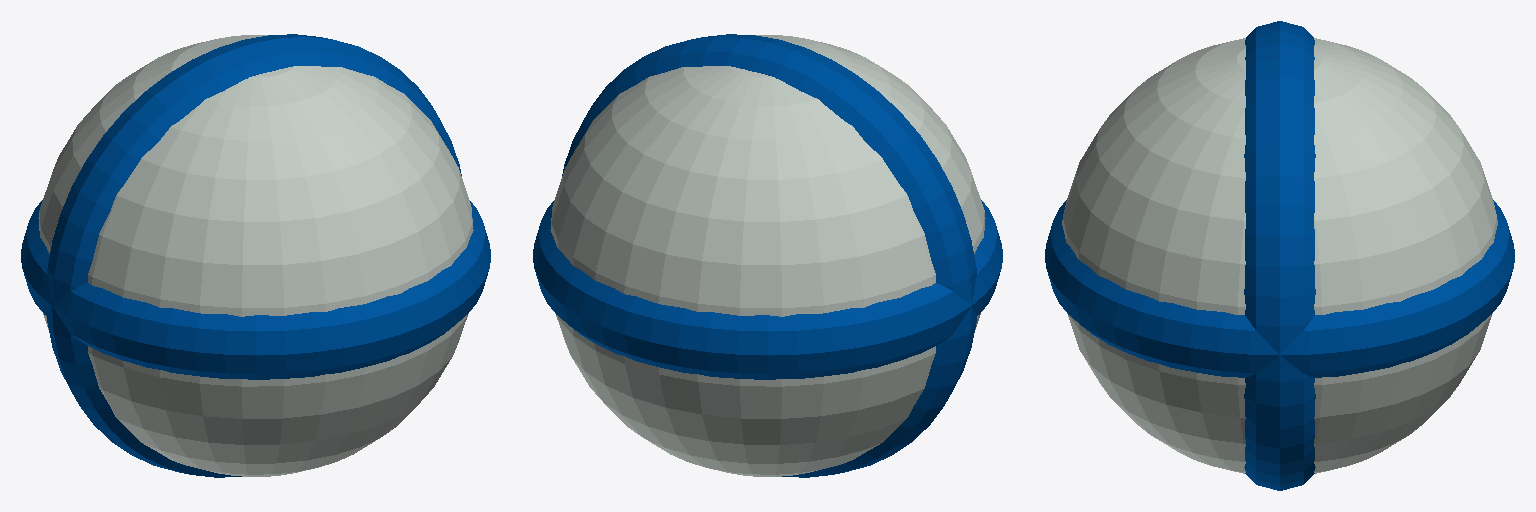
File: Grenade.obj
3 views of the same model, side by side, from view 1: azimuth 30°, elevation 25°; view 2: azimuth 150°, elevation 25°; view 3: azimuth 270°, elevation 25° (orthographic).
Visible parts, largest first — view 1: Sphere, Torus, Torus.001; view 2: Sphere, Torus, Torus.001; view 3: Sphere, Torus.001, Torus.
Part boxes in pixels (bbox=[...]): Sphere: bbox=[38, 35, 473, 476]; Torus: bbox=[21, 200, 490, 379]; Torus.001: bbox=[47, 34, 461, 477]; Sphere: bbox=[550, 35, 985, 476]; Torus: bbox=[533, 200, 1002, 379]; Torus.001: bbox=[562, 34, 976, 477]; Sphere: bbox=[1062, 38, 1497, 473]; Torus.001: bbox=[1244, 21, 1315, 490]; Torus: bbox=[1045, 200, 1514, 377].
Bounding box in the file's own units: 2.13 × 2.13 × 2.13.